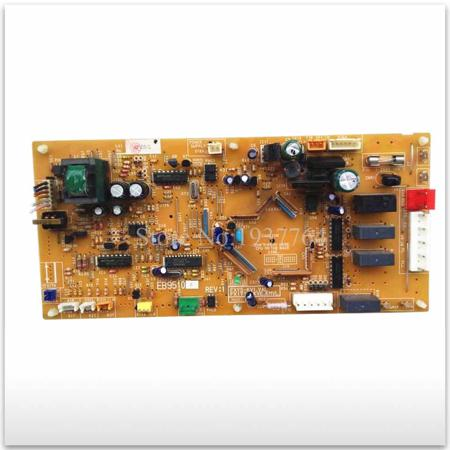capacitor: (331, 168, 359, 193), (280, 139, 303, 159), (127, 182, 150, 200), (108, 182, 127, 200), (259, 276, 274, 289), (224, 233, 234, 250), (111, 204, 126, 215), (328, 205, 345, 214), (151, 267, 167, 275), (214, 227, 222, 243), (94, 206, 106, 215), (170, 240, 180, 250), (223, 175, 233, 184), (240, 174, 249, 183), (326, 193, 336, 201)
